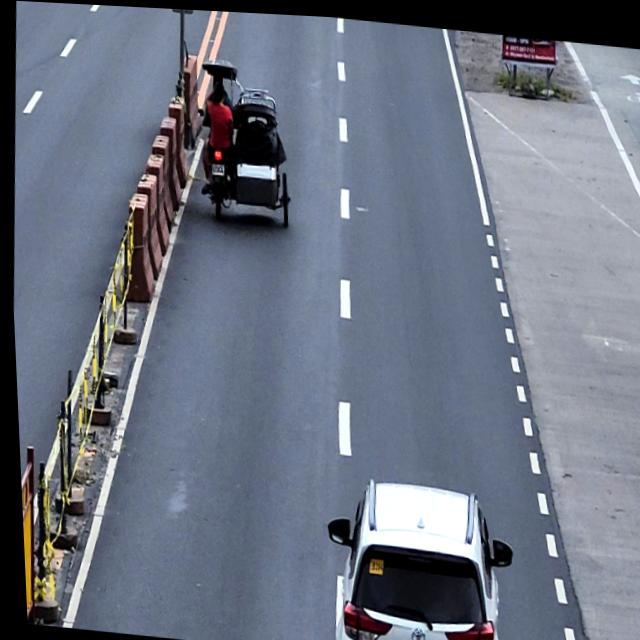Car: (313, 469, 514, 640)
License-Plate: (209, 159, 225, 174)
Tricycle: (192, 54, 297, 227)
